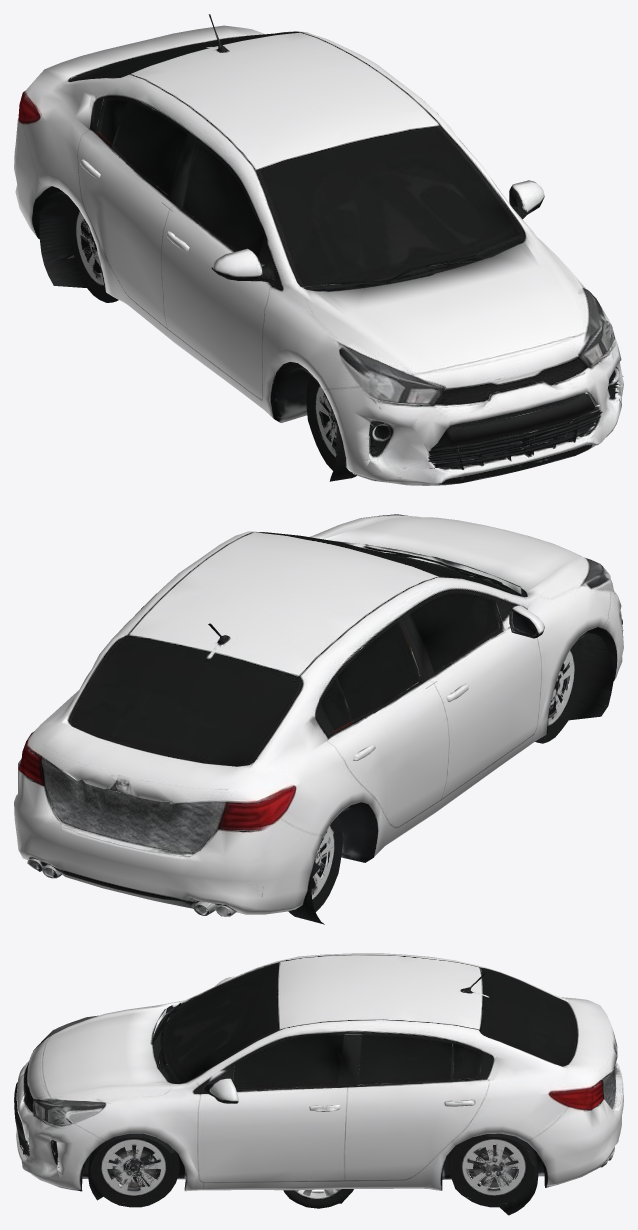
The model's file is kia-rio.glb.
3 views of the same model, one above another, from view 1: azimuth 30°, elevation 25°; view 2: azimuth 150°, elevation 25°; view 3: azimuth 270°, elevation 25° (orthographic). The views are drawn at different scales.
Parts seen in each view (by area): view 1: object 1; view 2: object 1; view 3: object 1, wheel.
Boxes of the visible parts, x1,y1,x2,y2 form: object 1: [14, 14, 623, 485]; object 1: [14, 514, 623, 924]; object 1: [14, 953, 623, 1215]; wheel: [283, 1189, 353, 1208].
Bounding box in the file's own units: 2.04 × 1.85 × 4.39.
1 material, 1 textured.
